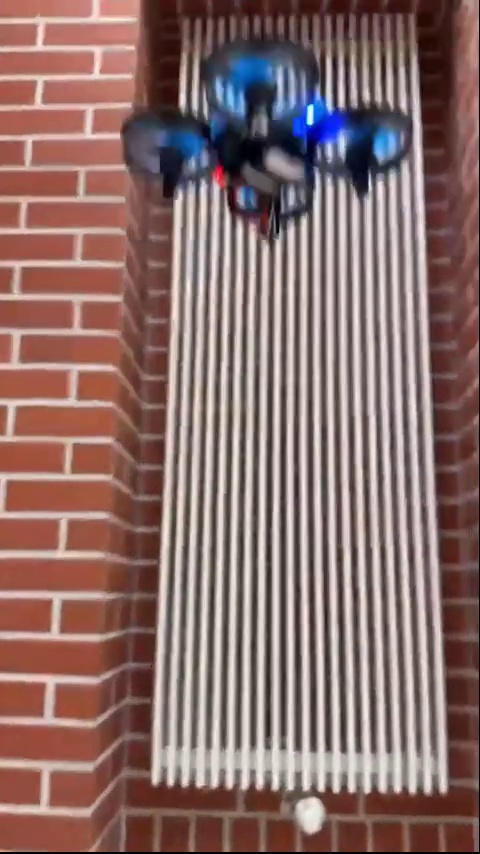drone: (117, 36, 416, 235)
